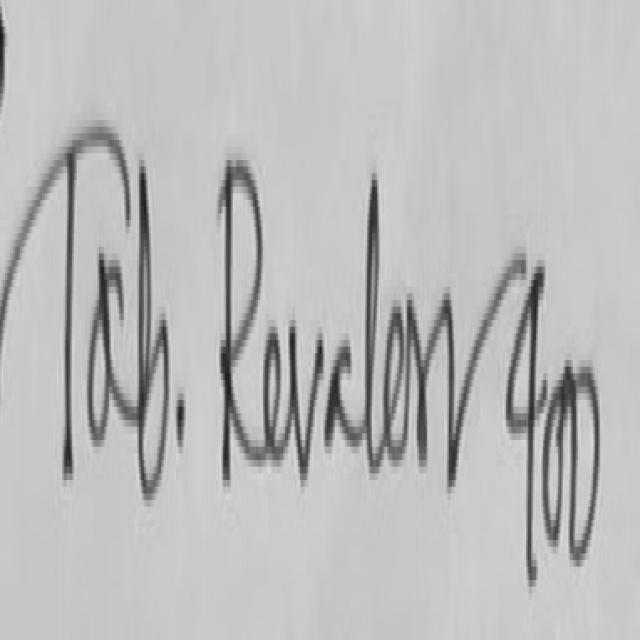0: (566, 338, 604, 568), (536, 361, 568, 603)
R: (204, 111, 260, 496)
T: (34, 78, 89, 514)
a: (498, 251, 542, 590), (84, 204, 129, 458), (320, 311, 357, 496)
b: (126, 124, 178, 520)
e: (252, 304, 288, 483)
l: (354, 134, 382, 514)
n: (409, 251, 471, 507)
o: (383, 284, 408, 483)
v: (283, 291, 323, 494)
